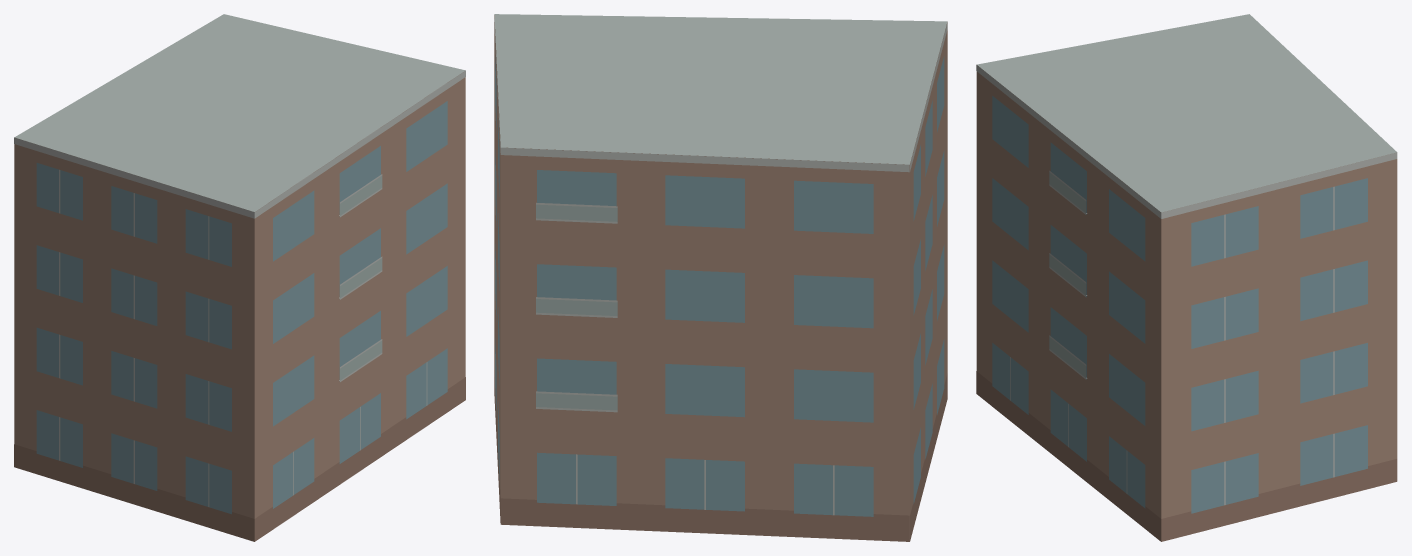
The model's file is survey-upis-32651757.glb.
The picture shows the model from 3 angles, left to right: view 1: azimuth 30°, elevation 25°; view 2: azimuth 150°, elevation 25°; view 3: azimuth 270°, elevation 25°; orthographic projection. The views are drawn at different scales.
Visible parts, largest first — view 1: survey-upis-32651757.tmp; view 2: survey-upis-32651757.tmp; view 3: survey-upis-32651757.tmp.
Part boxes in pixels (left/top/right/bottom): survey-upis-32651757.tmp: left=14, top=14, right=465, bottom=541; survey-upis-32651757.tmp: left=494, top=14, right=947, bottom=541; survey-upis-32651757.tmp: left=976, top=14, right=1397, bottom=541.
Size of the model in its own units: 15.78 by 12.2 by 14.14.
